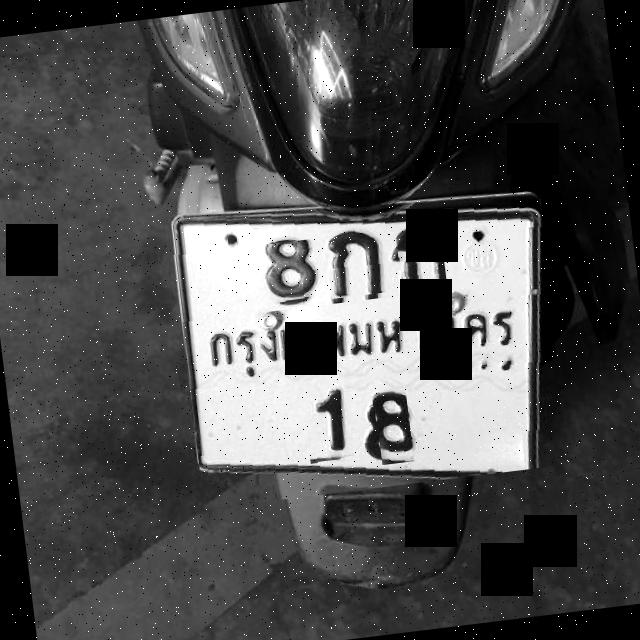letters: (246, 237, 328, 306), (320, 221, 388, 299), (301, 383, 354, 464), (394, 223, 446, 292), (371, 386, 414, 466)
license-plate: (177, 210, 540, 477)
province: (202, 294, 517, 378)
